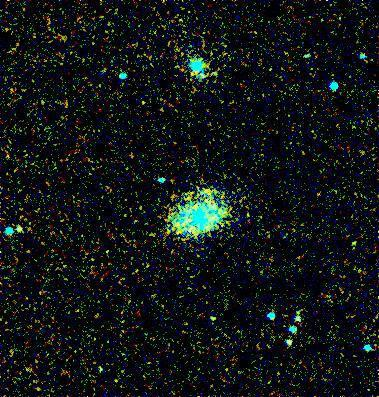star: (204, 298, 234, 328)
